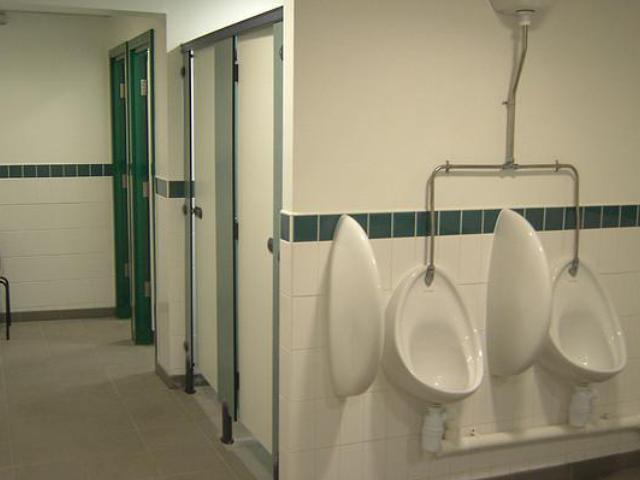Sanitario: (380, 260, 488, 454), (524, 251, 630, 434)
